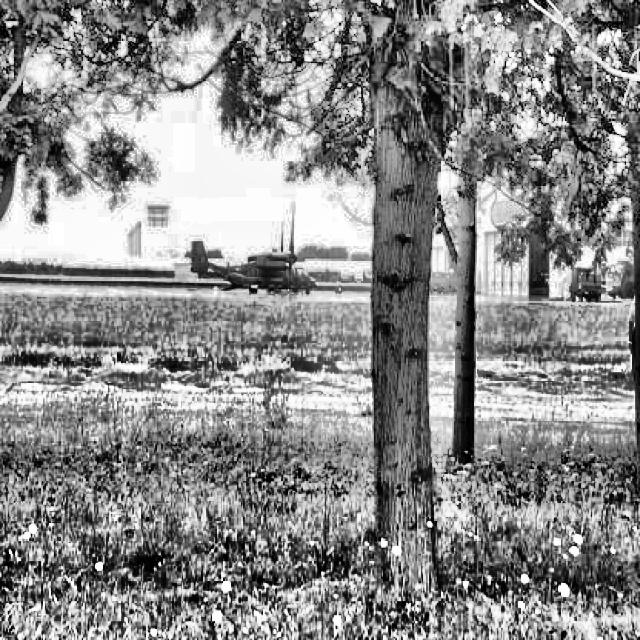V22: (189, 202, 317, 296)
